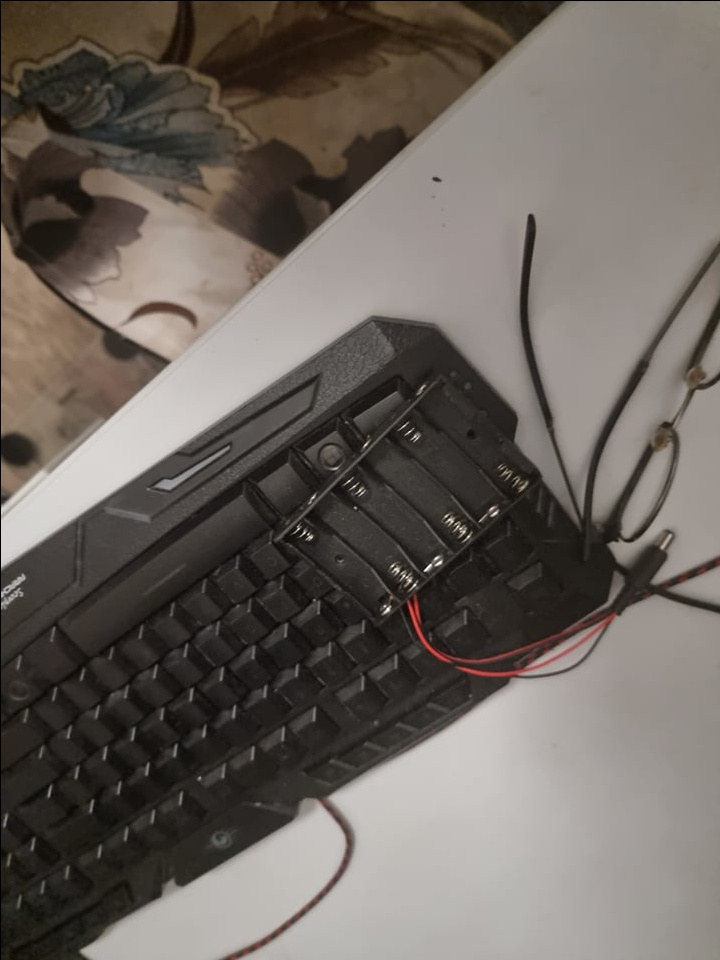BATTERY BOX: (271, 359, 543, 636)
